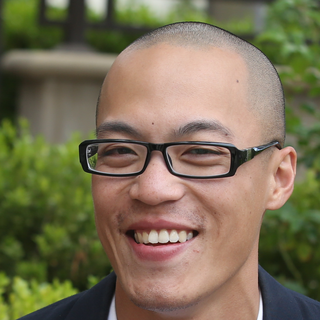eye: (179, 141, 228, 164), (98, 142, 144, 165)
